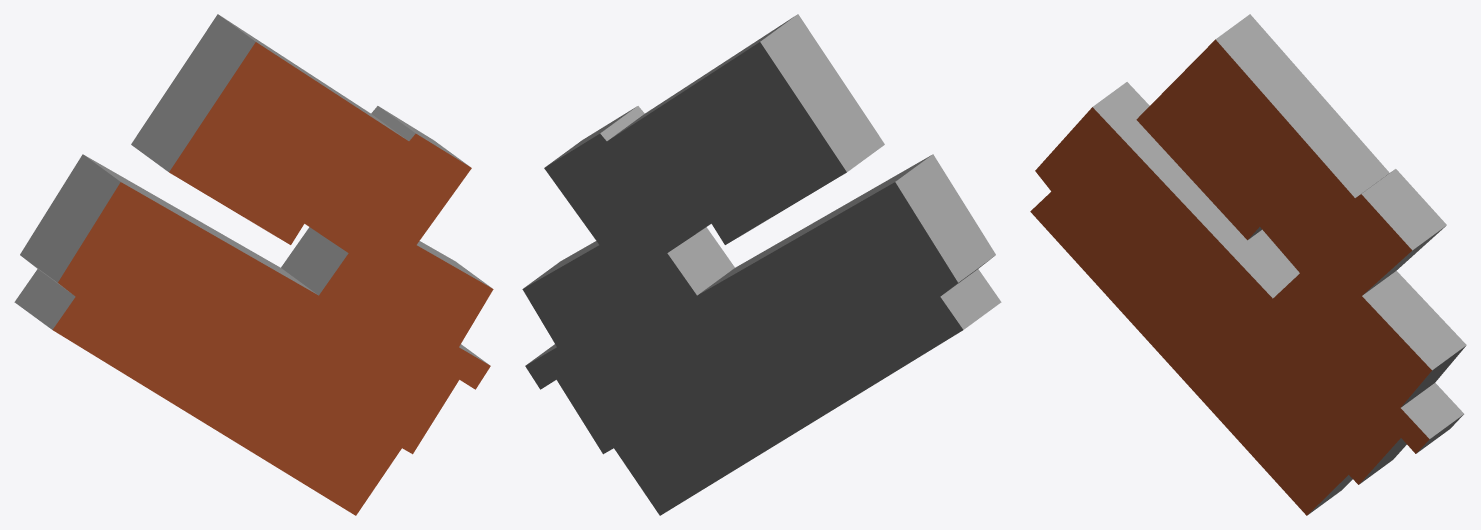
Rendered from construction_6716_assumed_A_Casa_h6m.obj.
3 renders of one model, left to right at view 1: azimuth 30°, elevation 25°; view 2: azimuth 150°, elevation 25°; view 3: azimuth 330°, elevation 25°, orthographic. The views are drawn at different scales.
Parts seen in each view (by area): view 1: construction_6716_assumed_A_Casa; view 2: construction_6716_assumed_A_Casa; view 3: construction_6716_assumed_A_Casa.
Boxes of the visible parts, box(x1,y1,x2,y2) form: construction_6716_assumed_A_Casa: box(14, 14, 493, 515); construction_6716_assumed_A_Casa: box(522, 14, 1001, 515); construction_6716_assumed_A_Casa: box(1030, 14, 1466, 515).
Size of the model in its own units: 40.18 by 43.4 by 6.
